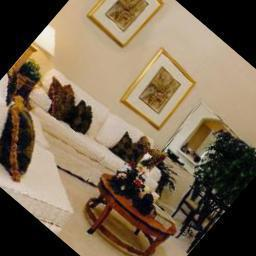Matera: (157, 131, 256, 248)
